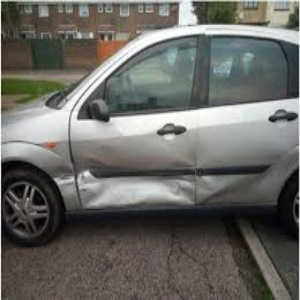door: (56, 148, 232, 203)
